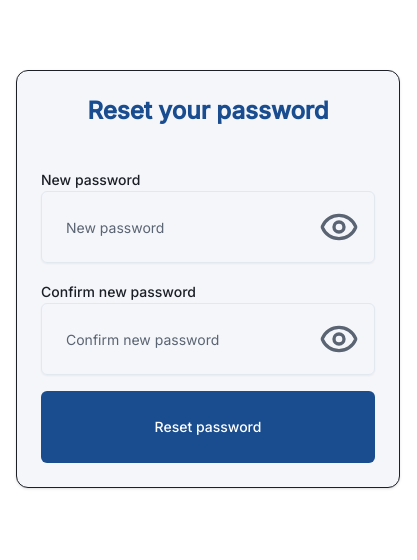
server RESET_TOKEN_INVALID -> renders invalid-link message and /forgot-password link
Type "validpassword123" into the password field with placeholder "New password". click: (208, 227)
box: [41,191,375,263]
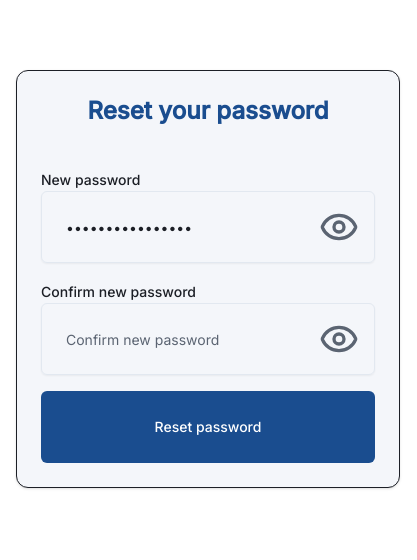
Type "validpassword123" into the password field with placeholder "Confirm new password". click: (208, 339)
box: [41,303,375,375]
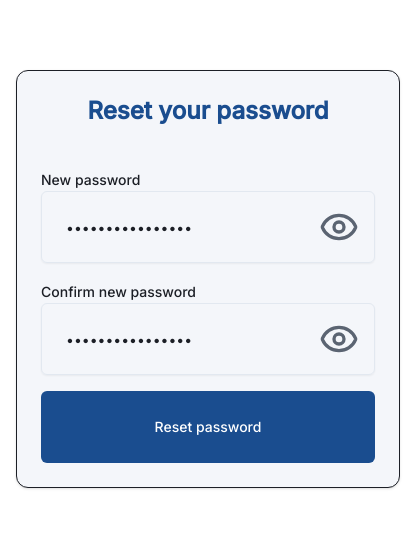
Click the button "Reset password". click: (208, 427)
box: [41,391,375,463]
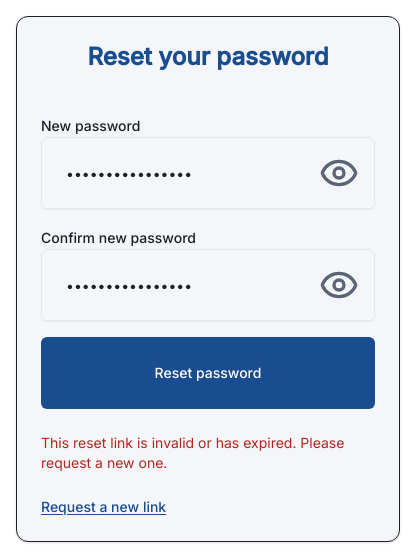
Result: the text "This reset link is invalid or has expired. Please request a new one." is shown at [41,433,375,473]
Result: the link "Request a new link" is shown at [41,498,166,515]
